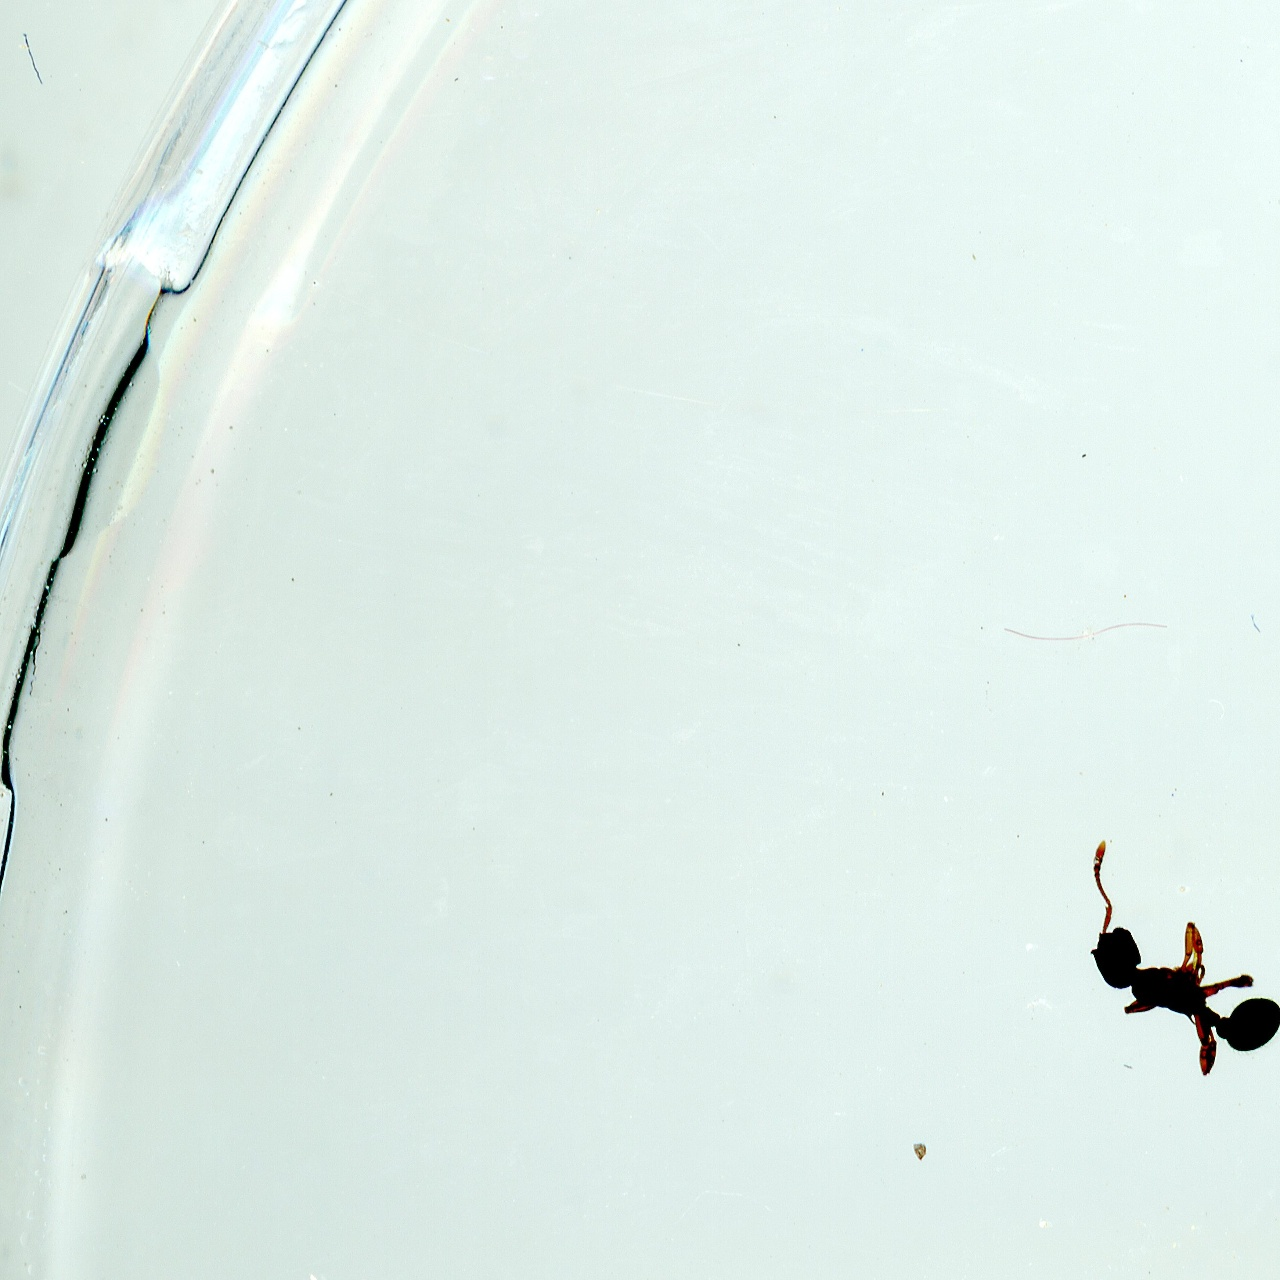arthropod: (1081, 836, 1280, 1080)
